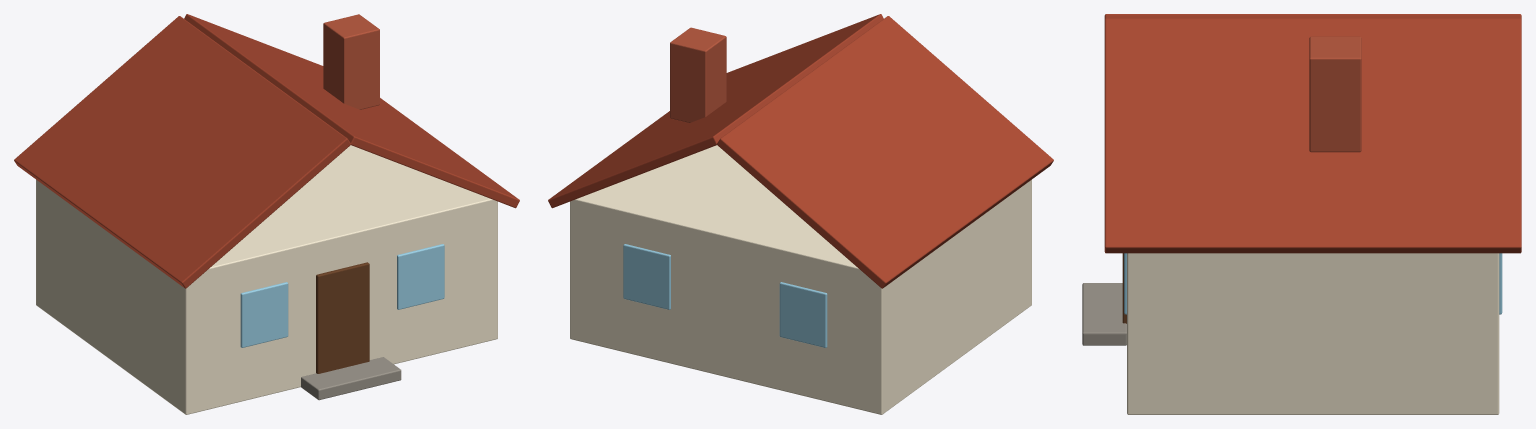
Rendered from house_small.glb.
The picture shows the model from 3 angles, left to right: view 1: azimuth 30°, elevation 25°; view 2: azimuth 150°, elevation 25°; view 3: azimuth 270°, elevation 25°; orthographic projection. The views are drawn at different scales.
Visible parts, largest first — view 1: house; view 2: house; view 3: house.
Part boxes in pixels (bbox=[...]): house: bbox=[14, 14, 519, 414]; house: bbox=[548, 14, 1053, 414]; house: bbox=[1082, 14, 1521, 414].
Size of the model in its own units: 6.5 by 4.9 by 5.9.
